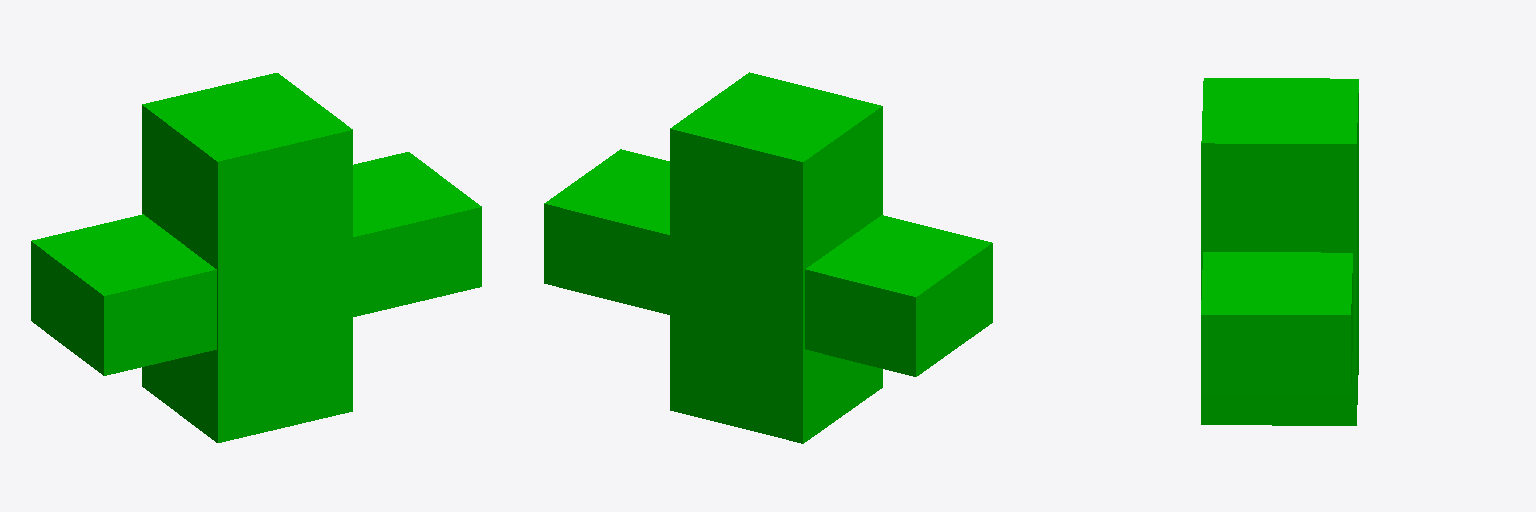
The model's file is health.obj.
3 renders of one model, left to right at view 1: azimuth 30°, elevation 25°; view 2: azimuth 150°, elevation 25°; view 3: azimuth 270°, elevation 25°, orthographic.
Visible parts, largest first — view 1: Cube; view 2: Cube; view 3: Cube.
Part boxes in pixels (bbox=[...]): Cube: bbox=[31, 73, 481, 442]; Cube: bbox=[544, 72, 992, 443]; Cube: bbox=[1201, 78, 1358, 425].
Size of the model in its own units: 1.12 by 0.8 by 0.4066.